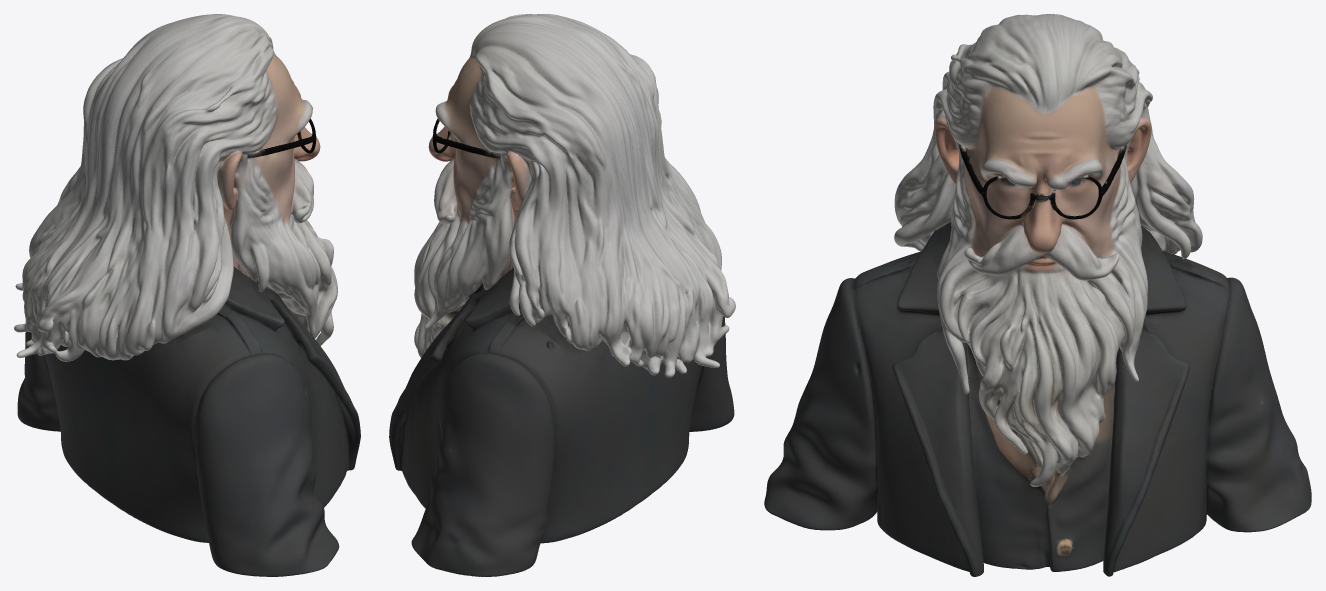
File: detailed_realistic_model_albusdumbledore_09.glb
3 renders of one model, left to right at view 1: azimuth 30°, elevation 25°; view 2: azimuth 150°, elevation 25°; view 3: azimuth 270°, elevation 25°, orthographic. The views are drawn at different scales.
Visible parts, largest first — view 1: tripo_node_b9893912-7b7b-47a6-822a-fe57b8337c0a; view 2: tripo_node_b9893912-7b7b-47a6-822a-fe57b8337c0a; view 3: tripo_node_b9893912-7b7b-47a6-822a-fe57b8337c0a.
Boxes of the visible parts, x1,y1,x2,y2 form: tripo_node_b9893912-7b7b-47a6-822a-fe57b8337c0a: (14, 14, 360, 576); tripo_node_b9893912-7b7b-47a6-822a-fe57b8337c0a: (389, 14, 735, 576); tripo_node_b9893912-7b7b-47a6-822a-fe57b8337c0a: (764, 14, 1311, 576).
Size of the model in its own units: 0.7007 by 0.9915 by 1.
1 material, 1 textured.
